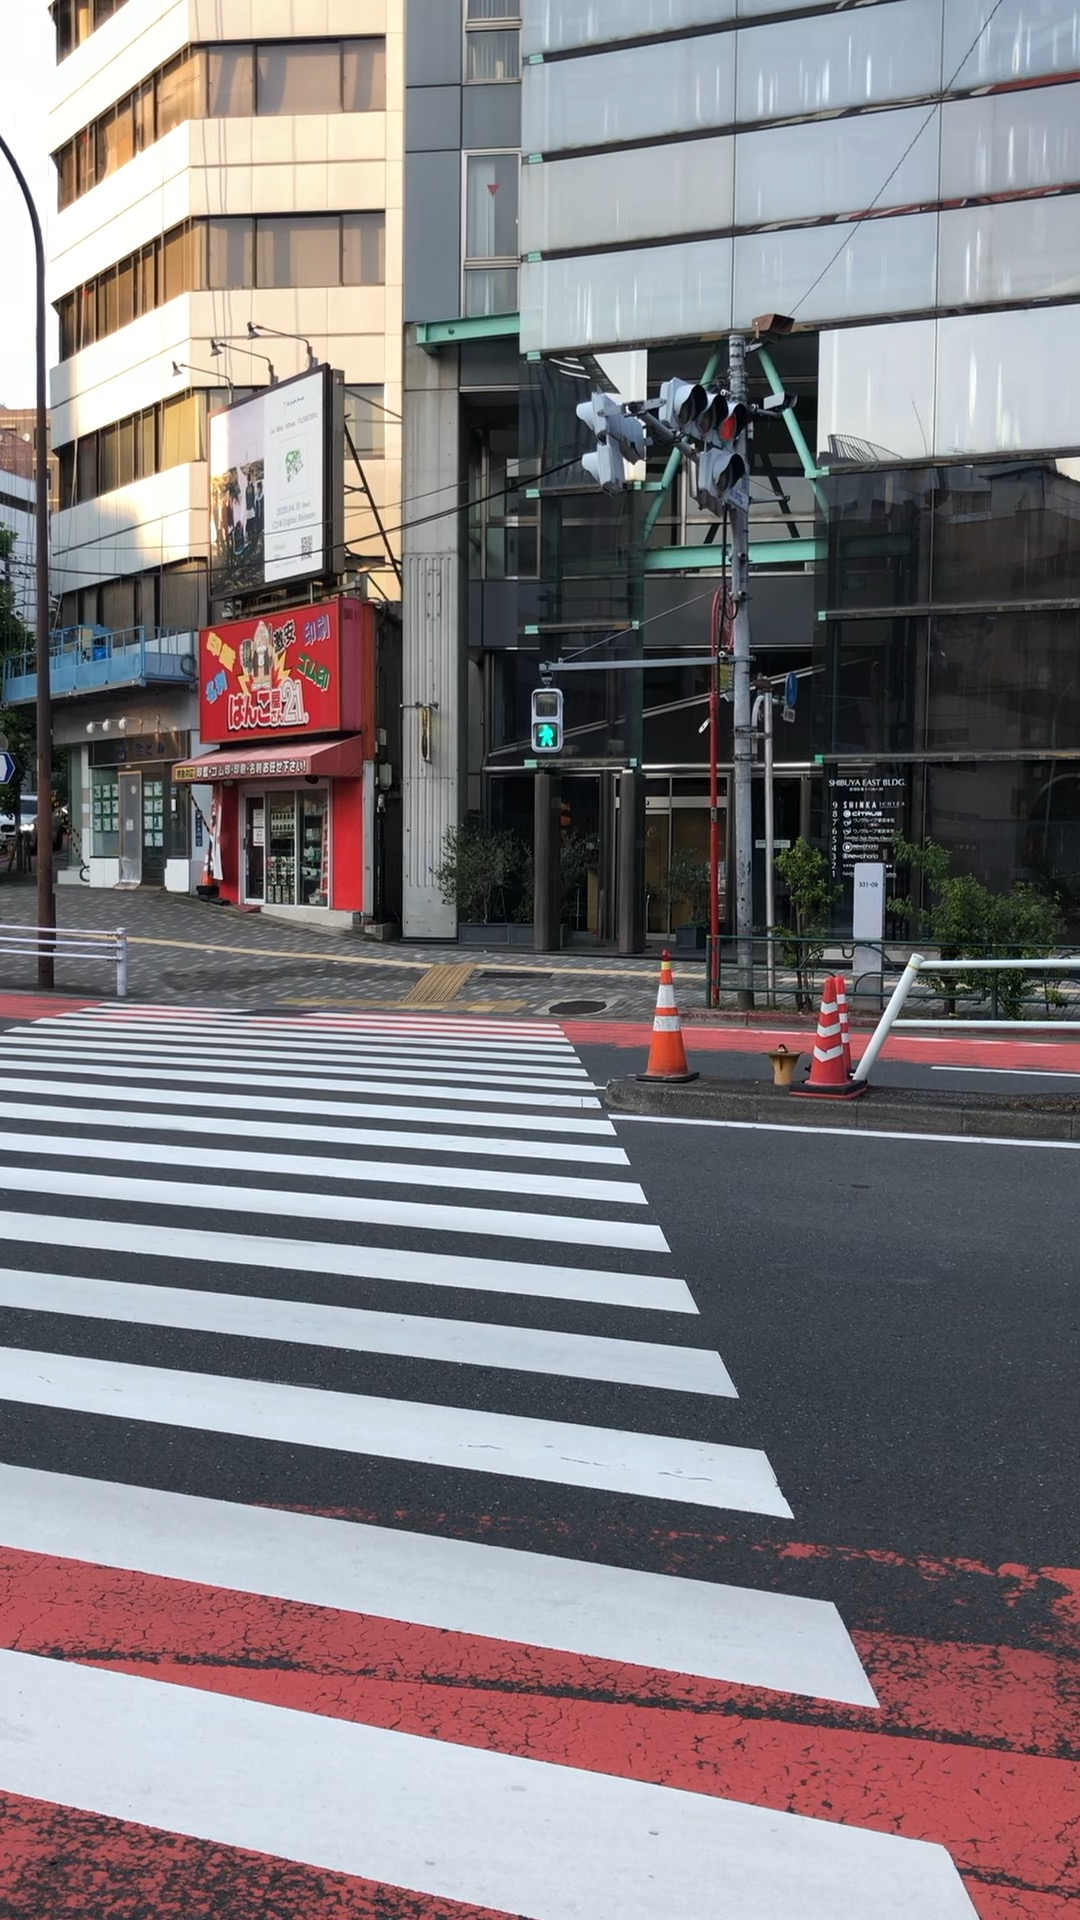green: (529, 688, 563, 752)
